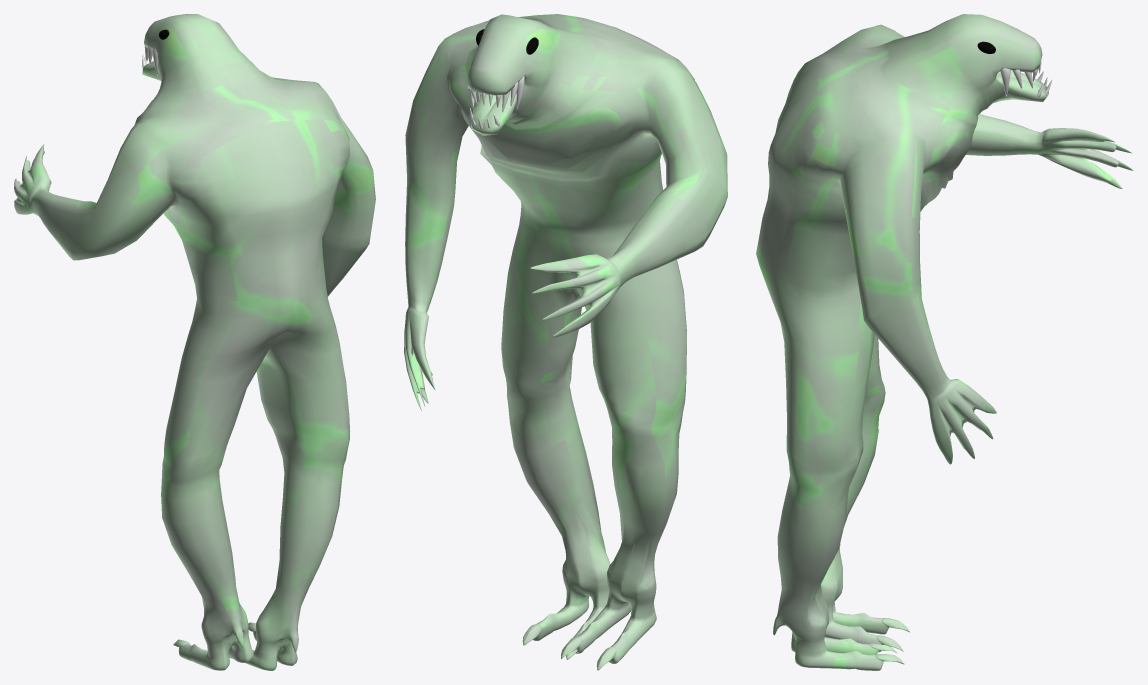
Rendered from Berserkercorrer.0002.obj.
3 renders of one model, left to right at view 1: azimuth 30°, elevation 25°; view 2: azimuth 150°, elevation 25°; view 3: azimuth 270°, elevation 25°, orthographic. The views are drawn at different scales.
Visible parts, largest first — view 1: polySurface27; view 2: polySurface27; view 3: polySurface27.
Part boxes in pixels (bbox=[...]): polySurface27: bbox=[14, 14, 375, 670]; polySurface27: bbox=[404, 14, 727, 670]; polySurface27: bbox=[756, 14, 1133, 670].
Size of the model in its own units: 11.61 by 23.81 by 12.66.
1 material, 1 textured.
